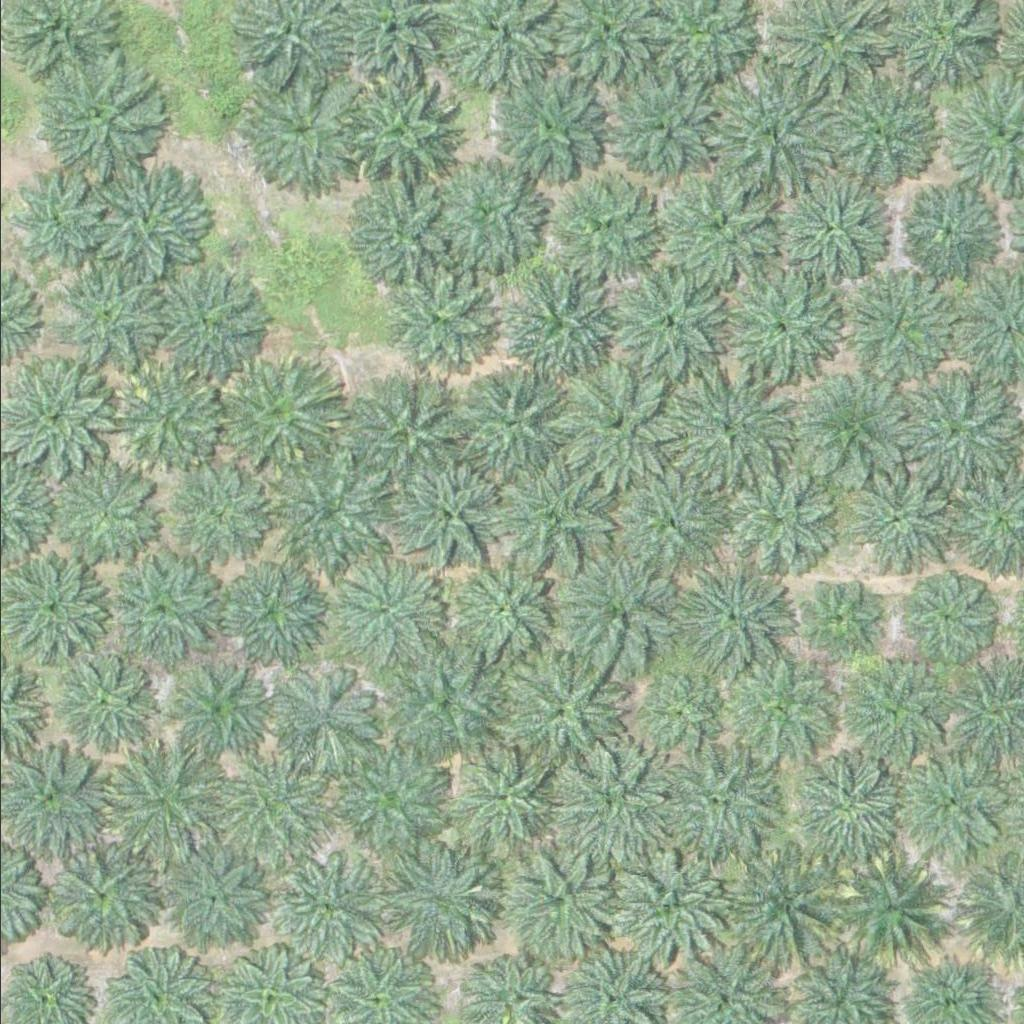Kelapa_Sawit: (887, 370, 1013, 495), (813, 69, 939, 194), (651, 153, 777, 278), (340, 66, 466, 191), (236, 70, 362, 195), (666, 363, 792, 488), (551, 359, 677, 484), (495, 655, 621, 780), (648, 741, 774, 866), (82, 157, 208, 282), (29, 51, 155, 176), (541, 158, 666, 283), (423, 147, 548, 272), (208, 350, 333, 475), (785, 746, 899, 859), (612, 464, 726, 577), (719, 461, 833, 574), (154, 837, 268, 950), (792, 372, 905, 485), (838, 266, 951, 379), (490, 67, 603, 180), (604, 68, 717, 181), (719, 81, 832, 194), (345, 173, 458, 286), (388, 460, 501, 573), (492, 457, 605, 570), (208, 556, 321, 669), (556, 747, 669, 860), (379, 841, 492, 954), (499, 844, 612, 957), (603, 849, 716, 962), (1, 364, 114, 477), (671, 556, 785, 668), (557, 558, 671, 670), (378, 646, 492, 758), (327, 741, 441, 853), (268, 855, 382, 967), (46, 837, 160, 949), (107, 746, 221, 858), (832, 855, 945, 967), (769, 183, 882, 295), (382, 264, 495, 376), (507, 271, 620, 383), (610, 263, 723, 375), (720, 268, 833, 380), (450, 368, 563, 480), (352, 375, 465, 487), (265, 457, 378, 569), (208, 745, 321, 857), (727, 850, 840, 962), (49, 455, 162, 567), (846, 471, 947, 571), (895, 183, 996, 283), (335, 564, 436, 664), (164, 658, 265, 758), (722, 658, 823, 758), (53, 651, 154, 751), (111, 559, 212, 659), (168, 462, 269, 562), (118, 368, 219, 468), (156, 278, 257, 378), (58, 266, 159, 366), (5, 168, 106, 268), (904, 755, 1004, 855), (844, 663, 944, 763), (453, 557, 553, 657), (268, 664, 368, 764), (457, 750, 557, 850), (900, 574, 988, 662), (797, 577, 873, 652), (638, 679, 714, 754)
